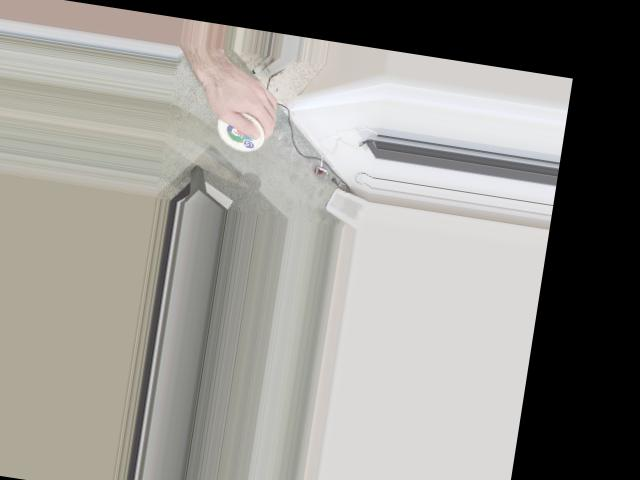cotage: (213, 104, 268, 154)
